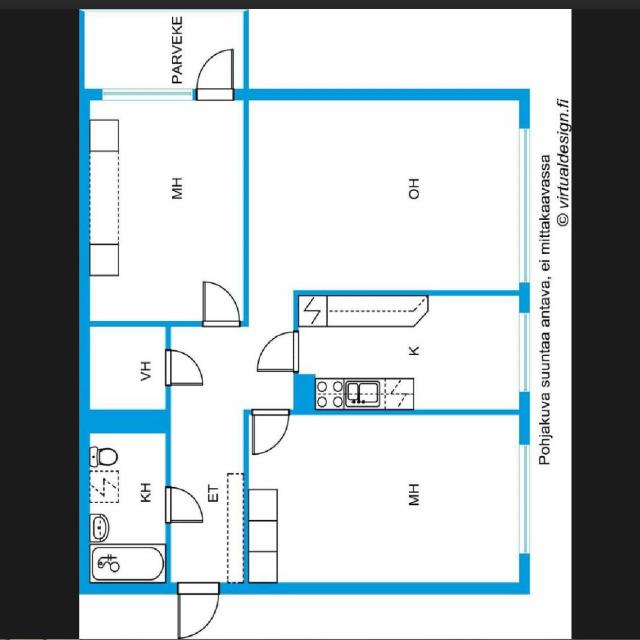door: (178, 582, 218, 638), (196, 48, 234, 100), (203, 281, 240, 326), (258, 331, 298, 371), (252, 410, 288, 454), (166, 350, 202, 385), (165, 488, 202, 522)
